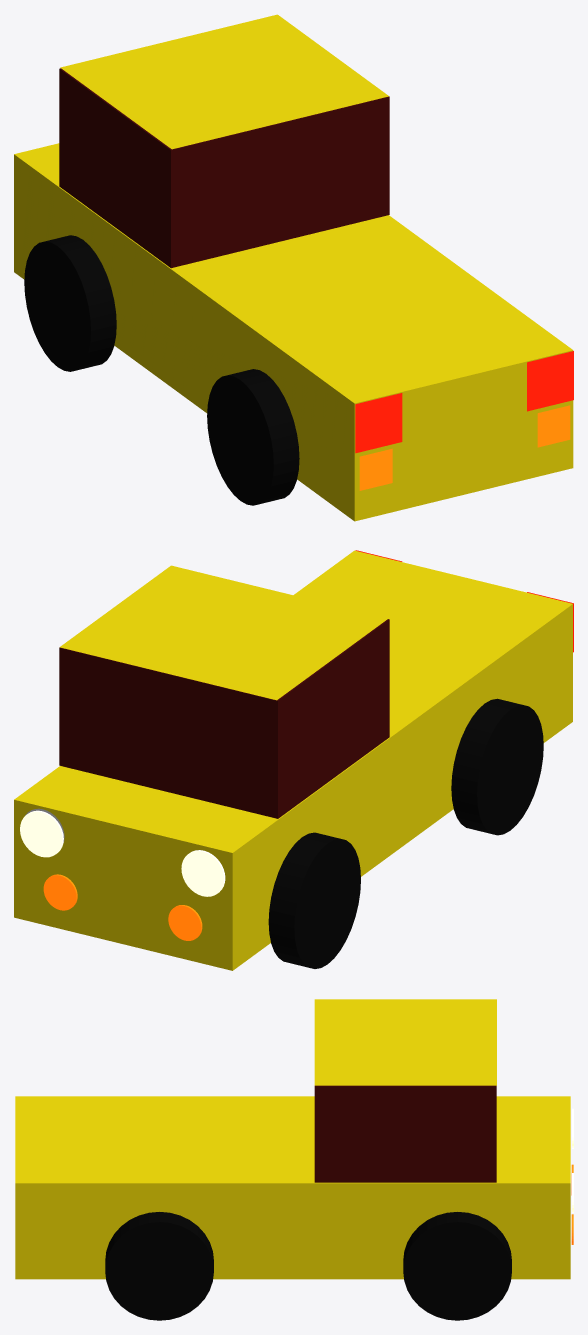
The model's file is pickup truck 3.fbx.
The picture shows the model from 3 angles, top to bottom: view 1: azimuth 30°, elevation 25°; view 2: azimuth 150°, elevation 25°; view 3: azimuth 270°, elevation 25°; orthographic projection. The views are drawn at different scales.
Visible parts, largest first — view 1: Cube.078, Cube.079, Plane.159, Circle.273, Circle.275, Plane.155, Plane.156, Plane.157, Plane.158; view 2: Cube.078, Cube.079, Plane.159, Circle.275, Circle.273, Circle.268, Circle.276, Circle.270, Circle.269; view 3: Cube.078, Cube.079, Plane.159, Circle.272, Circle.274.
Boxes of the visible parts, x1,y1,x2,y2 form: Cube.078: (14,143,573,521); Cube.079: (59,68,389,268); Plane.159: (60,14,388,149); Circle.273: (24,235,116,371); Circle.275: (207,369,299,505); Plane.155: (355,393,402,453); Plane.156: (527,351,573,411); Plane.157: (537,405,570,447); Plane.158: (359,448,392,490); Cube.078: (14,550,572,970); Cube.079: (59,619,389,818); Plane.159: (60,565,388,700); Circle.275: (451,698,543,835); Circle.273: (268,832,360,968); Circle.268: (20,810,63,857); Circle.276: (181,850,225,896); Circle.270: (43,874,77,910); Circle.269: (168,905,202,940); Cube.078: (15,1096,570,1279); Cube.079: (314,1085,496,1182); Plane.159: (314,999,496,1085); Circle.272: (403,1212,511,1320); Circle.274: (105,1212,213,1320).
Bounding box in the file's own units: 247 × 241 × 544.
